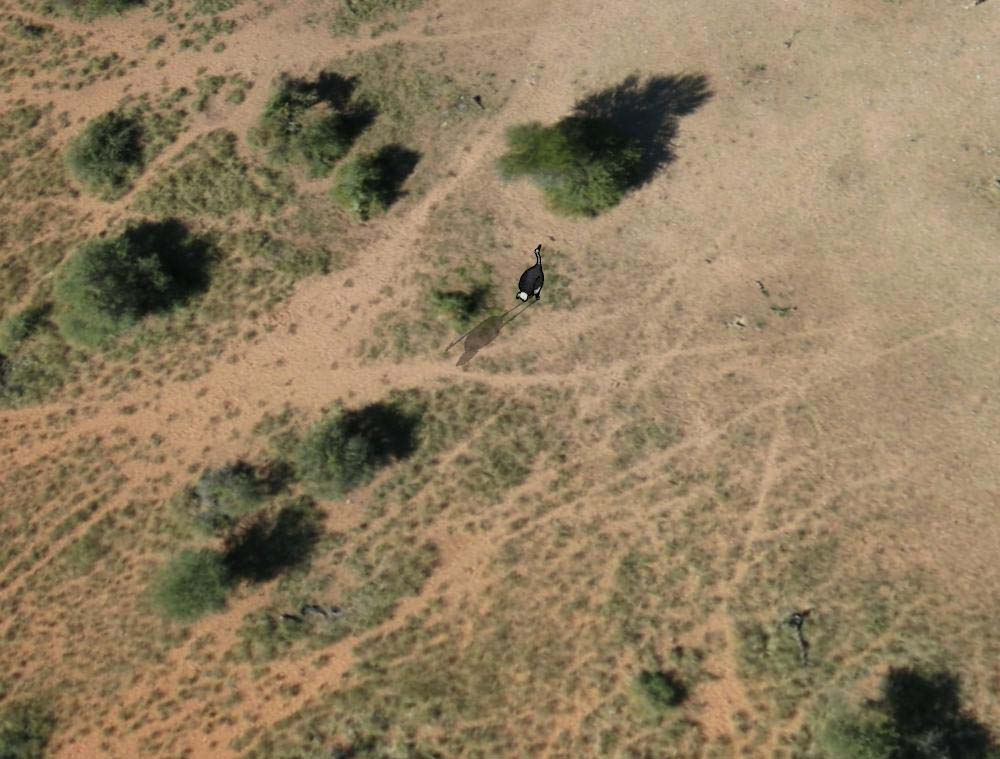ostrich: (514, 244, 550, 303)
